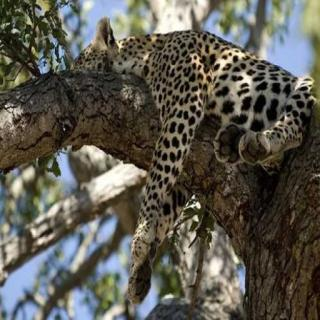Leopard: (63, 14, 313, 212)
